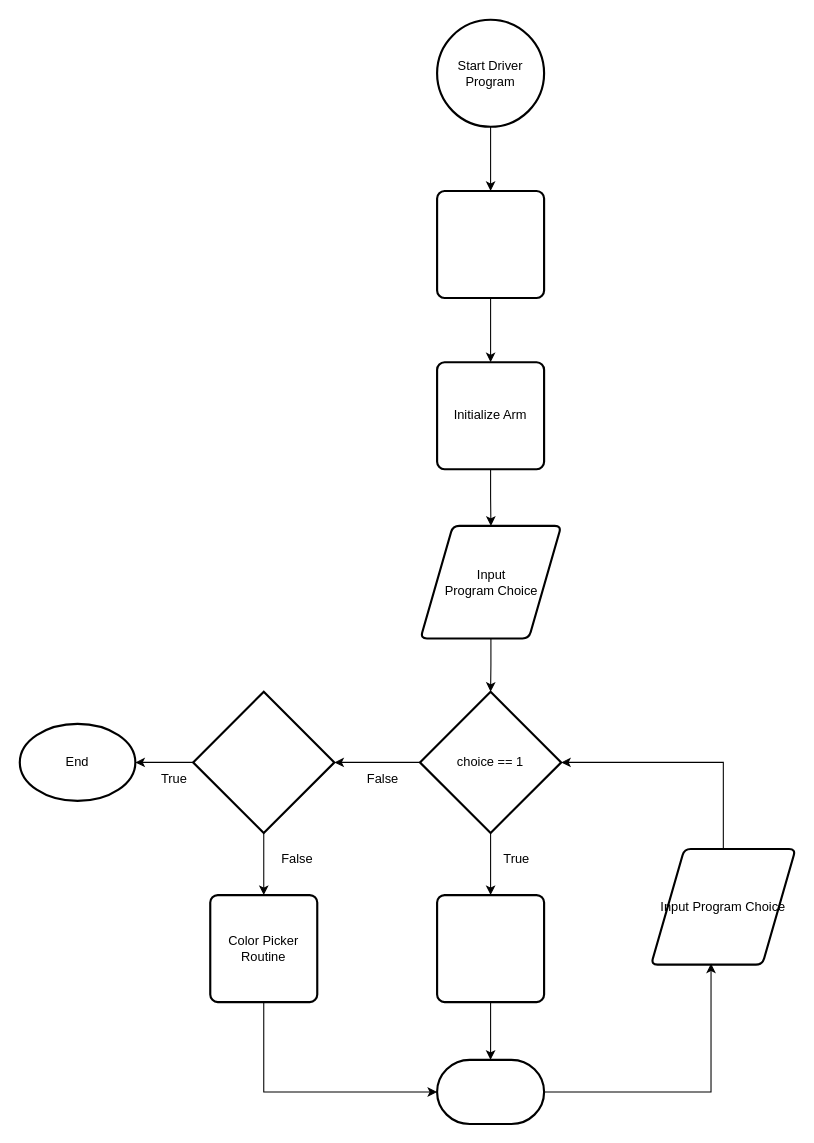
Some shapes in this 814 by 1143 pixel diagram are drawn without their labels. The shapes that lost their labels are listed below. From the top down, each one's box as (x1, y1, x2, y2) in pixels, then its label:
(435, 189, 545, 299): Initialize Camera
(192, 690, 335, 834): choice == 'q'
(435, 893, 545, 1003): Color Sorter Routine
(435, 1058, 545, 1125): Routine End
